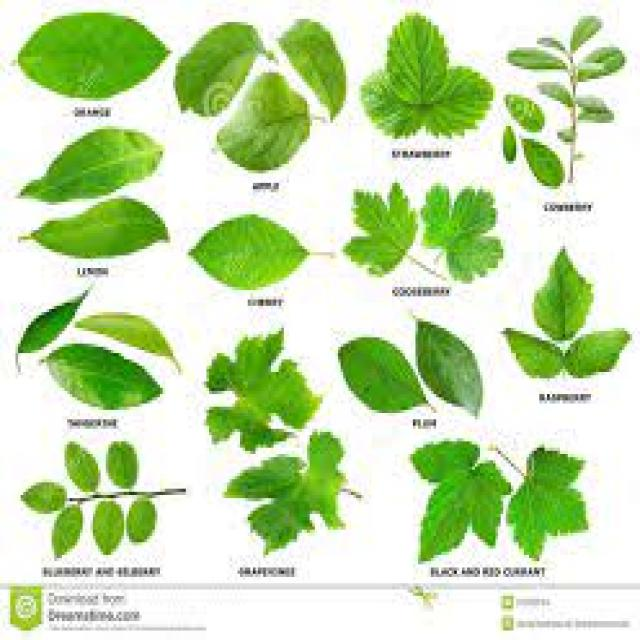leaves: (361, 14, 494, 137), (228, 434, 344, 552), (208, 330, 320, 450), (19, 12, 168, 97), (412, 443, 510, 560), (21, 130, 162, 201), (508, 447, 588, 558), (218, 73, 310, 169), (190, 215, 309, 288), (30, 199, 168, 257), (421, 185, 502, 280), (179, 26, 264, 115), (46, 345, 161, 408), (345, 183, 418, 274), (279, 20, 345, 118), (340, 337, 426, 412), (418, 321, 482, 415), (534, 249, 592, 340), (76, 316, 176, 363), (18, 291, 88, 352), (565, 335, 630, 376), (505, 331, 564, 376), (92, 501, 124, 554), (523, 139, 559, 186), (54, 505, 81, 557), (505, 97, 545, 132), (69, 441, 96, 491), (126, 498, 156, 542), (508, 47, 568, 69), (108, 441, 136, 488), (578, 52, 624, 80), (21, 484, 66, 512), (570, 18, 599, 51), (578, 98, 610, 121), (539, 86, 572, 106), (502, 125, 514, 161), (538, 37, 565, 51)
